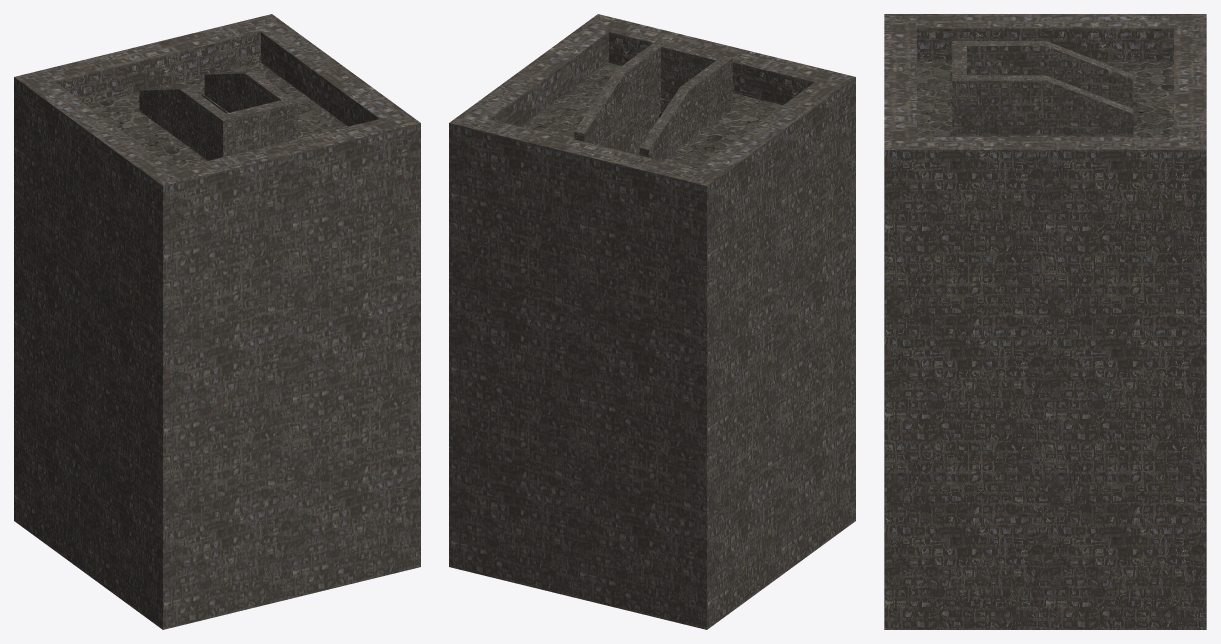
File: TowerSquare.fbx
The picture shows the model from 3 angles, left to right: view 1: azimuth 30°, elevation 25°; view 2: azimuth 150°, elevation 25°; view 3: azimuth 270°, elevation 25°; orthographic projection. The views are drawn at different scales.
Visible parts, largest first — view 1: Square Tower Large No Interior; view 2: Square Tower Large No Interior; view 3: Square Tower Large No Interior.
Boxes of the visible parts, bbox=[...] form: Square Tower Large No Interior: bbox=[14, 14, 420, 629]; Square Tower Large No Interior: bbox=[449, 14, 855, 629]; Square Tower Large No Interior: bbox=[884, 14, 1206, 629].
Bounding box in the file's own units: 600 × 1030 × 600.
